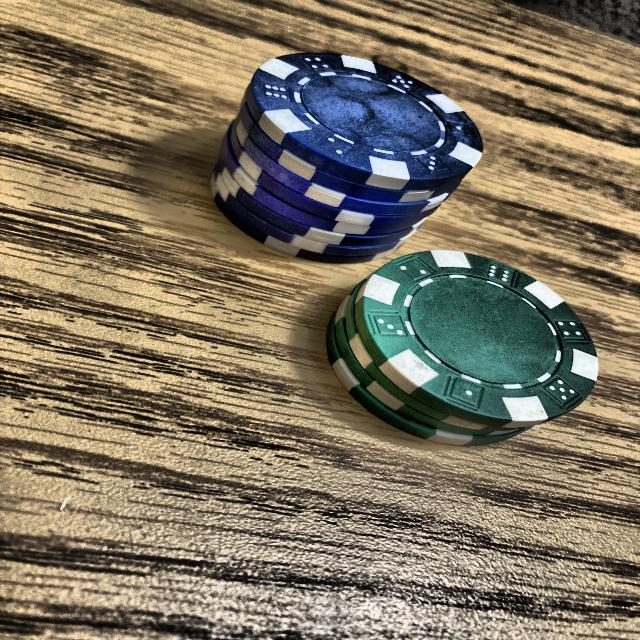Chip: (164, 39, 514, 294), (297, 222, 616, 448)
